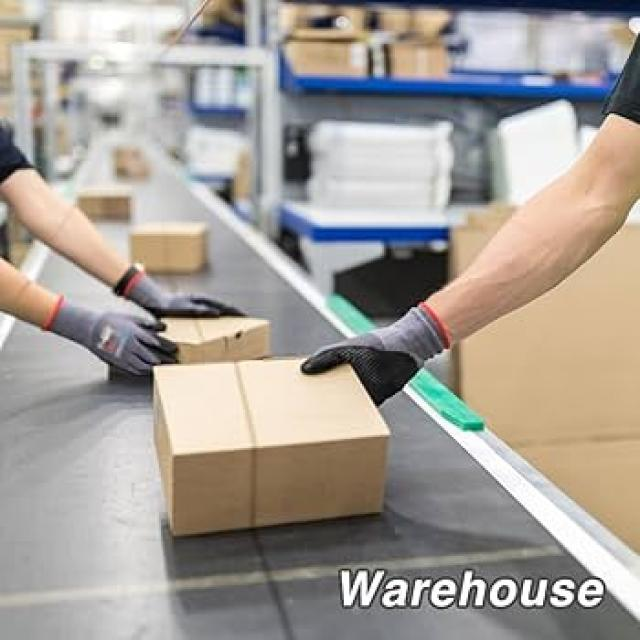gloved_hand: (299, 298, 453, 413), (40, 294, 182, 385), (132, 256, 254, 330)
